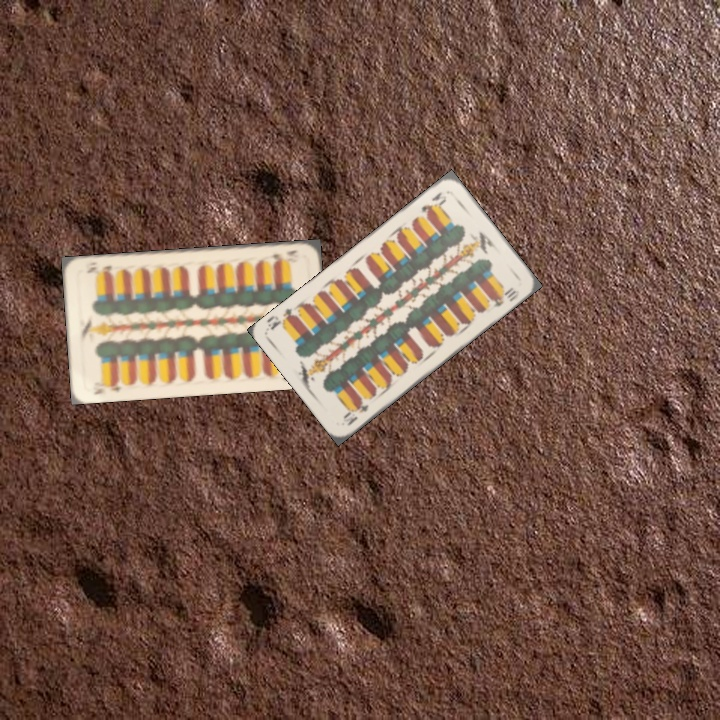E10: (339, 397, 371, 429), (417, 187, 449, 217), (90, 377, 124, 397), (267, 246, 300, 265)
